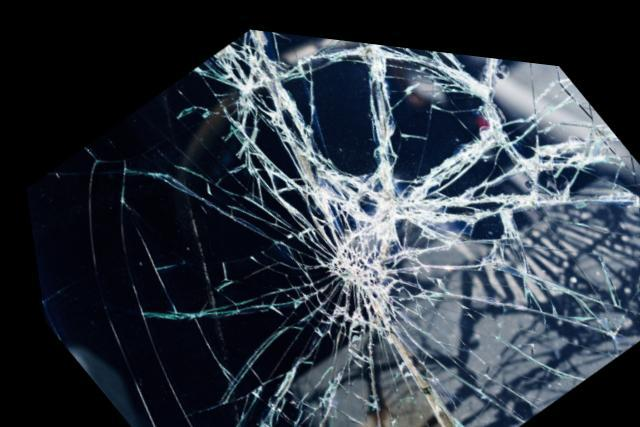glass shatter: (21, 23, 640, 427)
